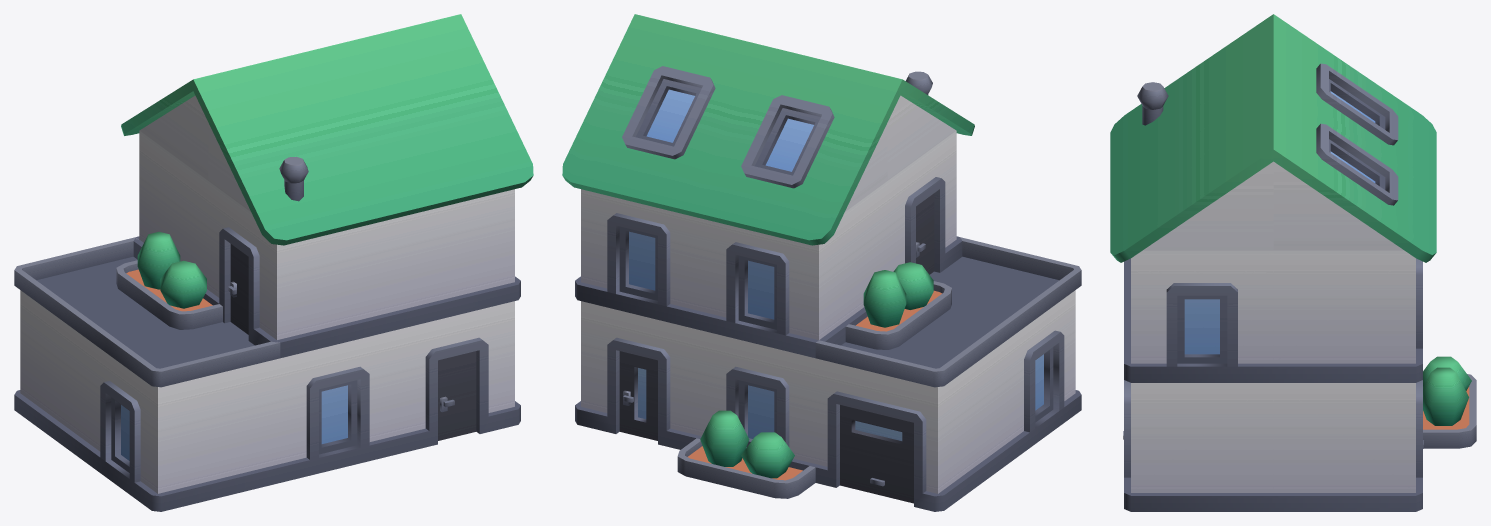
File: building-type-o.glb
The picture shows the model from 3 angles, left to right: view 1: azimuth 30°, elevation 25°; view 2: azimuth 150°, elevation 25°; view 3: azimuth 270°, elevation 25°; orthographic projection. The views are drawn at different scales.
Parts seen in each view (by area): view 1: building-type-o; view 2: building-type-o; view 3: building-type-o.
Part boxes in pixels (x1,y1,x2,y2): building-type-o: (14, 14, 533, 511); building-type-o: (562, 14, 1081, 511); building-type-o: (1110, 14, 1476, 511).
Bounding box in the file's own units: 1.27 × 1.14 × 1.03.
Materials: 1 (1 with a texture image).
